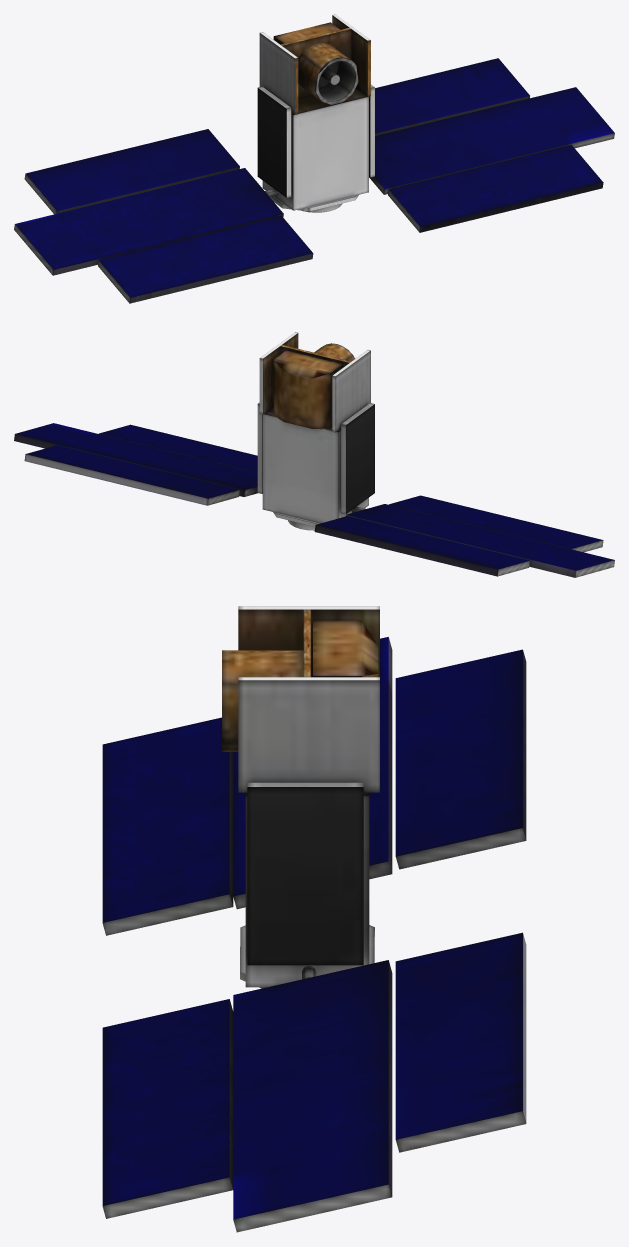
The model's file is ice-clouds-and-land-elevation-satellite-icesat-a.glb.
3 renders of one model, top to bottom at view 1: azimuth 30°, elevation 25°; view 2: azimuth 150°, elevation 25°; view 3: azimuth 270°, elevation 25°, orthographic. The views are drawn at different scales.
Visible parts, largest first — view 1: icesat_pro; view 2: icesat_pro; view 3: icesat_pro.
Boxes of the visible parts, <box> form: icesat_pro: <box>14,14,614,303</box>; icesat_pro: <box>14,332,614,577</box>; icesat_pro: <box>102,606,526,1232</box>.
Size of the model in its own units: 35.6 by 10.45 by 11.64.
Materials: 5 (5 with a texture image).
